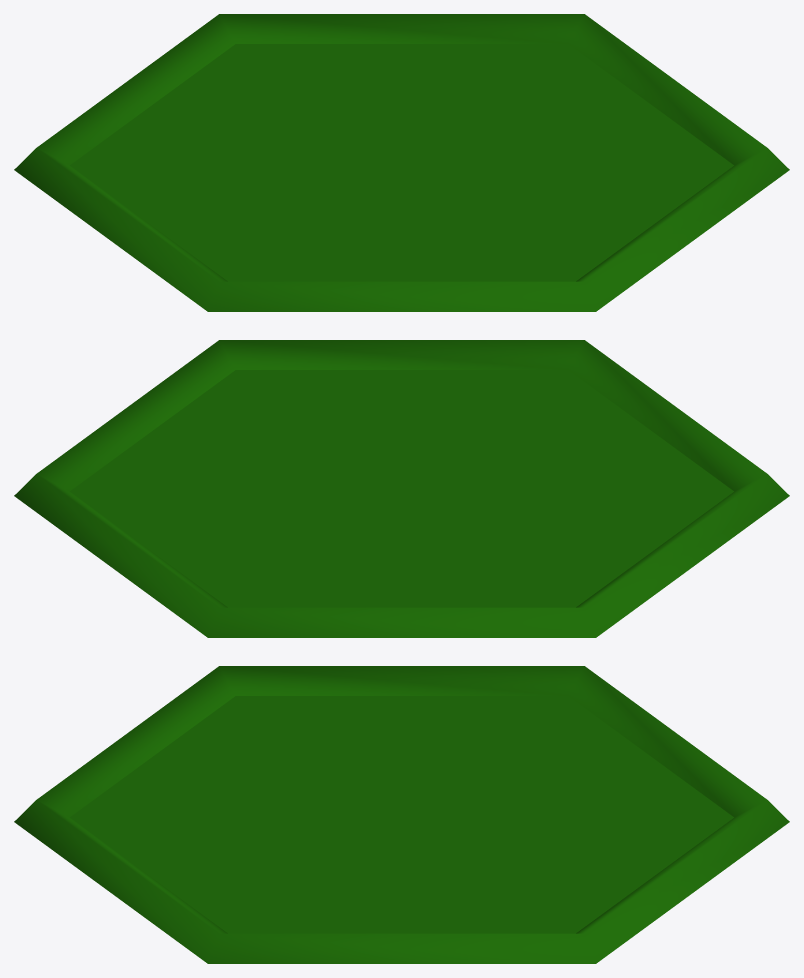
File: pastry-plains-2.glb
3 views of the same model, one above another, from view 1: azimuth 30°, elevation 25°; view 2: azimuth 150°, elevation 25°; view 3: azimuth 270°, elevation 25° (orthographic).
Parts seen in each view (by area): view 1: HexagonTile.011; view 2: HexagonTile.011; view 3: HexagonTile.011.
Boxes of the visible parts, x1=… form: HexagonTile.011: x1=14, y1=14, x2=789, y2=311; HexagonTile.011: x1=14, y1=340, x2=789, y2=637; HexagonTile.011: x1=14, y1=666, x2=789, y2=963.
Bounding box in the file's own units: 1.73 × 0.0631 × 2.
